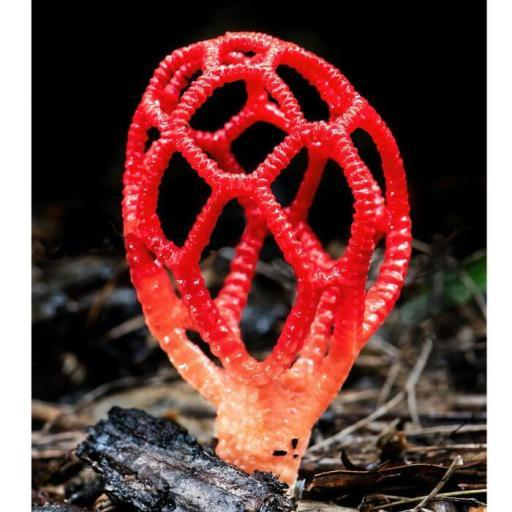mushroom: (120, 22, 411, 477)
